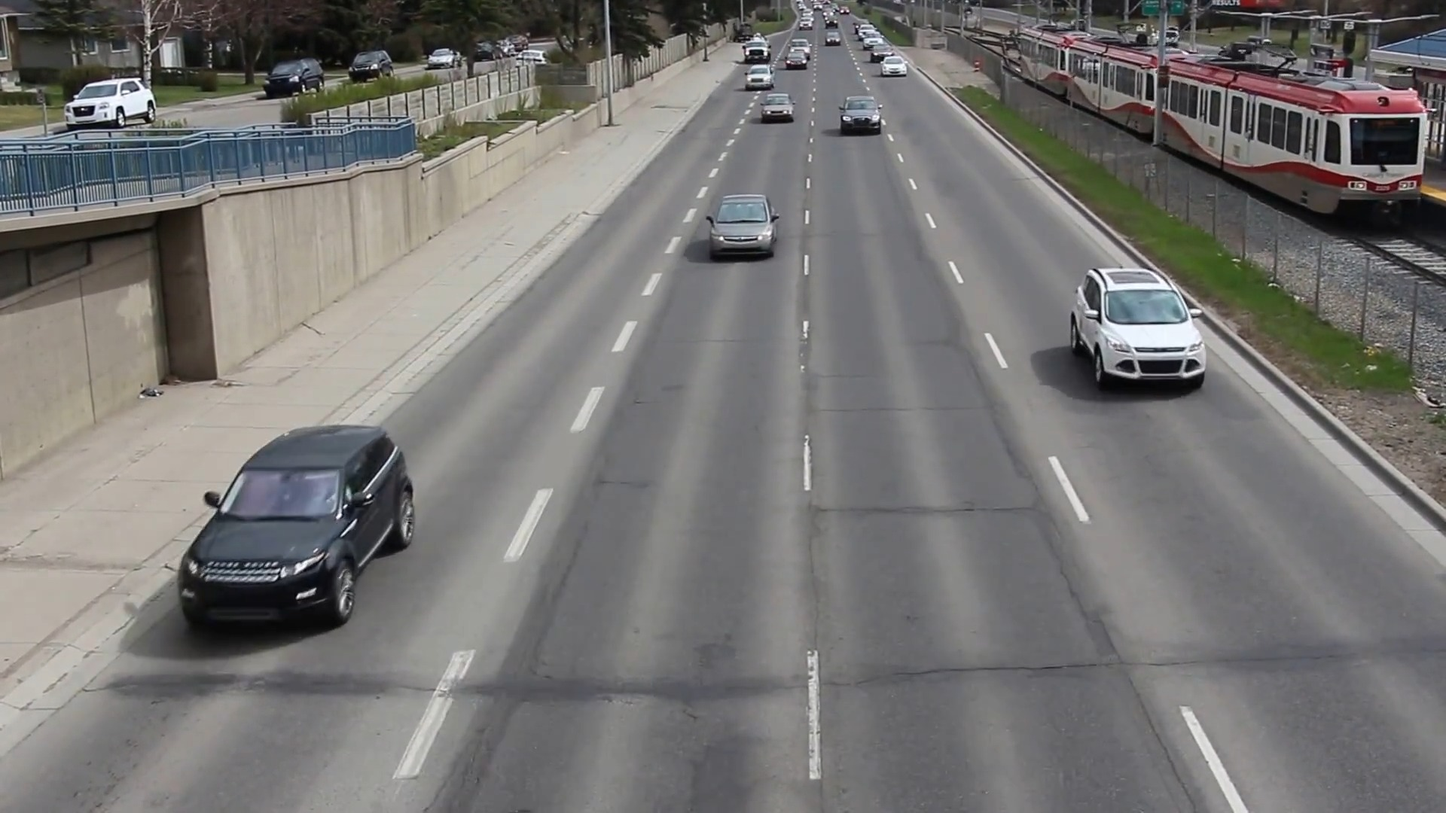car: (170, 413, 423, 646), (1075, 268, 1215, 395), (705, 190, 781, 250), (834, 96, 885, 142)
